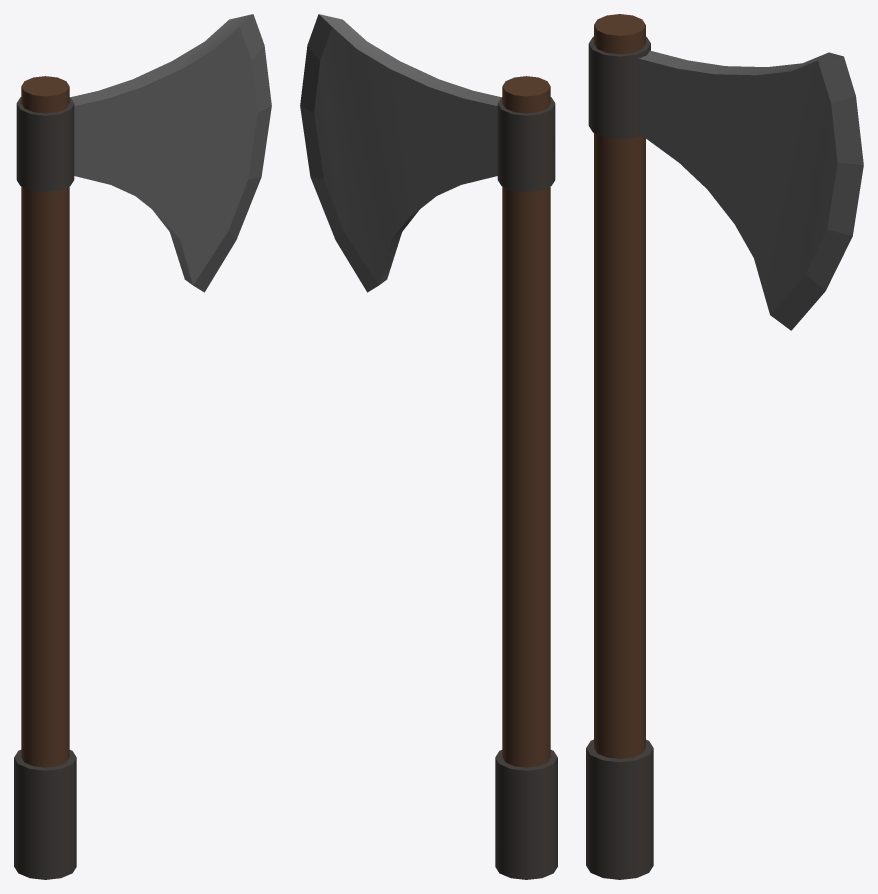
File: Hand Axe.glb
3 renders of one model, left to right at view 1: azimuth 30°, elevation 25°; view 2: azimuth 150°, elevation 25°; view 3: azimuth 330°, elevation 25°, orthographic. The views are drawn at different scales.
Parts seen in each view (by area): view 1: Hand Axe; view 2: Hand Axe; view 3: Hand Axe.
Boxes of the visible parts, bbox=[...] form: Hand Axe: bbox=[14, 14, 271, 879]; Hand Axe: bbox=[300, 14, 557, 879]; Hand Axe: bbox=[586, 14, 863, 879].
Bounding box in the file's own units: 0.17 × 0.5138 × 0.0364.
1 material, 1 textured.
